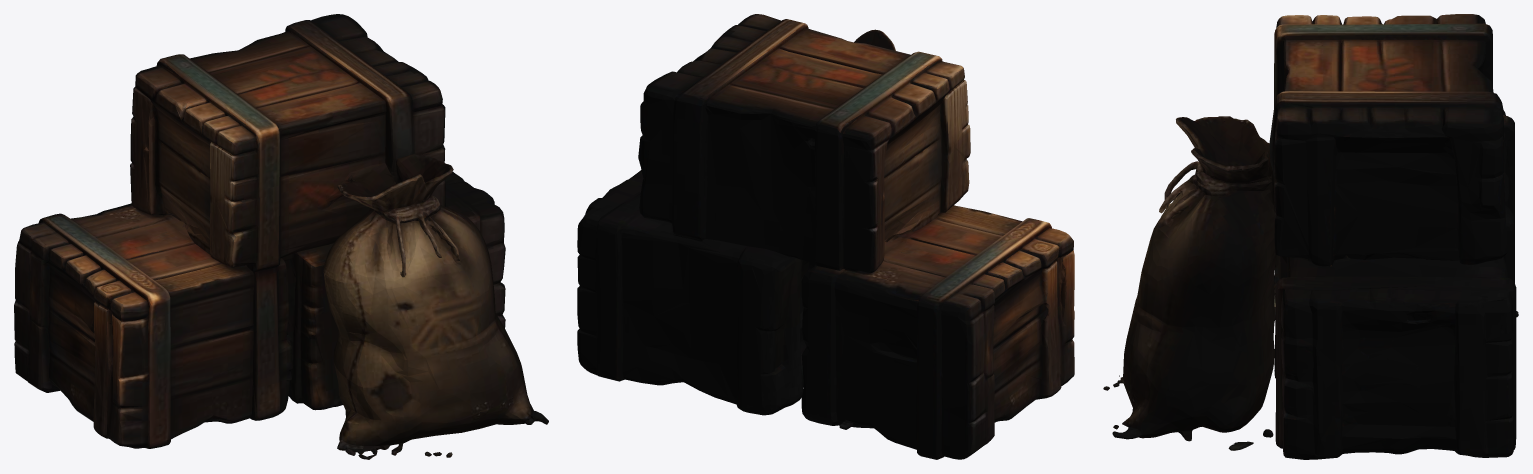
File: crates.glb
3 views of the same model, side by side, from view 1: azimuth 30°, elevation 25°; view 2: azimuth 150°, elevation 25°; view 3: azimuth 270°, elevation 25° (orthographic). The views are drawn at different scales.
Parts seen in each view (by area): view 1: world; view 2: world; view 3: world.
Part boxes in pixels (box(x1,y1,x2,y2)): world: box(14, 14, 548, 459); world: box(577, 14, 1074, 459); world: box(1103, 14, 1518, 459).
Bounding box in the file's own units: 0.9868 × 0.7147 × 0.8486.
Materials: 1 (1 with a texture image).
